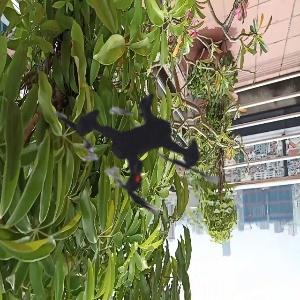drone: (13, 25, 260, 272)
